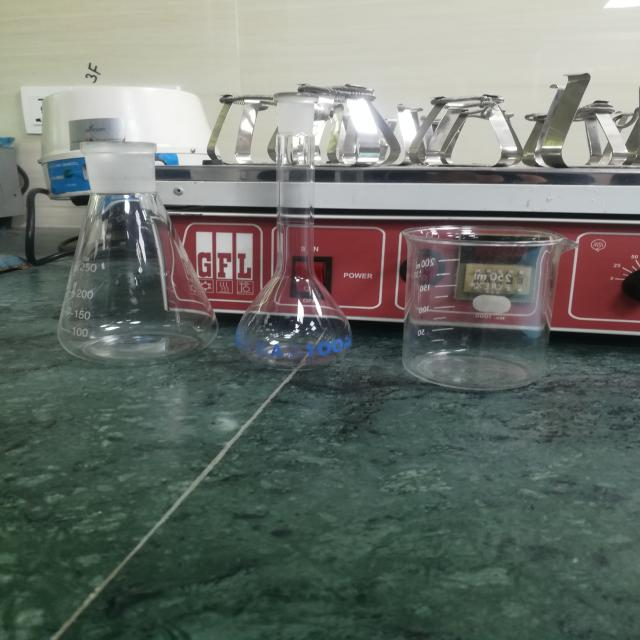Beaker: (375, 200, 588, 410)
Conical_Flask: (24, 118, 225, 378)
Volumetric_Flask: (241, 86, 356, 378)
